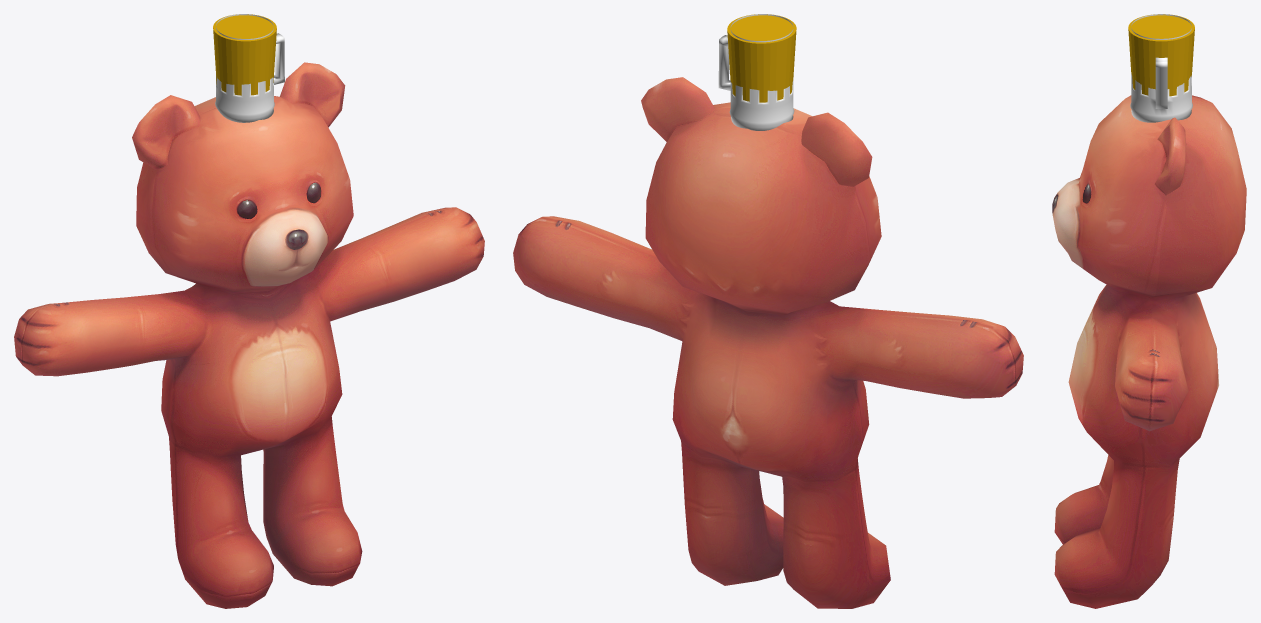
File: OsitoAleman.glb
3 views of the same model, side by side, from view 1: azimuth 30°, elevation 25°; view 2: azimuth 150°, elevation 25°; view 3: azimuth 270°, elevation 25° (orthographic). The views are drawn at different scales.
Visible parts, largest first — view 1: Osito, Circle.002, Circle.001; view 2: Osito, Circle.002, Circle.001; view 3: Osito, Circle.002, Circle.001.
Part boxes in pixels (box(x1,y1,x2,y2)): Osito: box(14, 62, 484, 608); Circle.002: box(213, 14, 276, 95); Circle.001: box(215, 14, 284, 122); Osito: box(513, 77, 1023, 608); Circle.002: box(727, 14, 796, 102); Circle.001: box(718, 14, 794, 130); Osito: box(1052, 95, 1246, 608); Circle.002: box(1128, 14, 1194, 96); Circle.001: box(1130, 14, 1192, 122).
Size of the model in its own units: 2.11 by 2.41 by 0.7668.
Materials: 3 (1 with a texture image).
